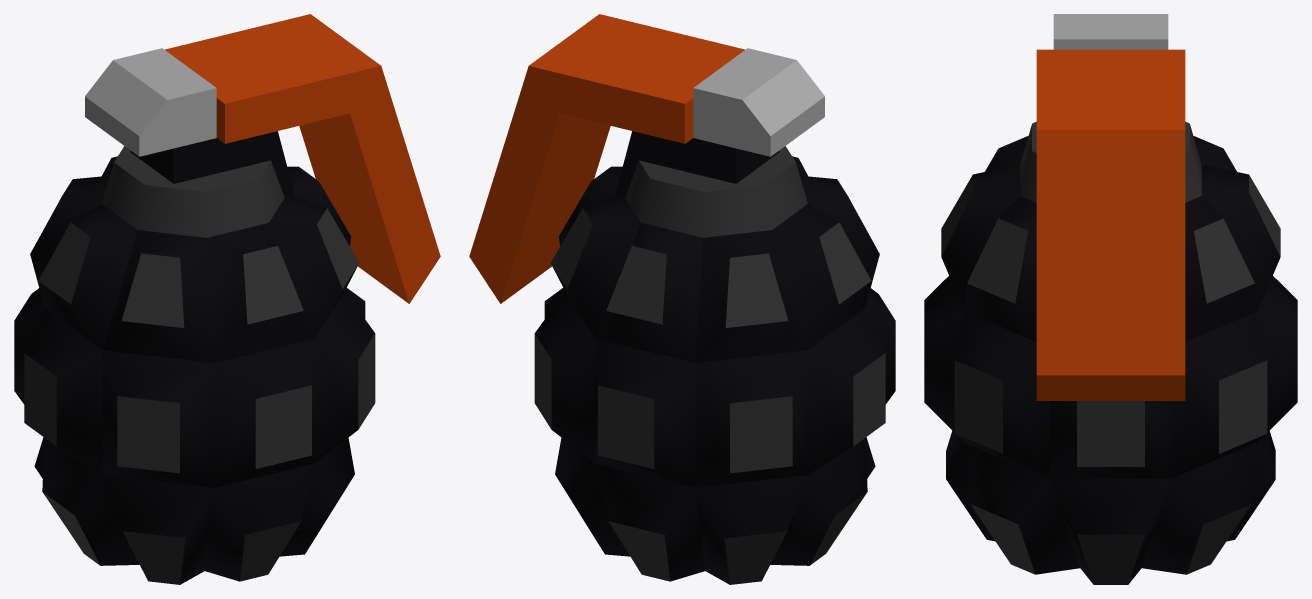
File: grenade_RaceCarFrag.glb
3 views of the same model, side by side, from view 1: azimuth 30°, elevation 25°; view 2: azimuth 150°, elevation 25°; view 3: azimuth 270°, elevation 25° (orthographic). The views are drawn at different scales.
Parts seen in each view (by area): view 1: grenade_RaceCarFrag; view 2: grenade_RaceCarFrag; view 3: grenade_RaceCarFrag.
Boxes of the visible parts, left/top/right/bottom form: grenade_RaceCarFrag: left=14, top=14, right=440, bottom=584; grenade_RaceCarFrag: left=469, top=14, right=895, bottom=584; grenade_RaceCarFrag: left=924, top=14, right=1297, bottom=584.
Size of the model in its own units: 0.124 by 0.1533 by 0.1049.
